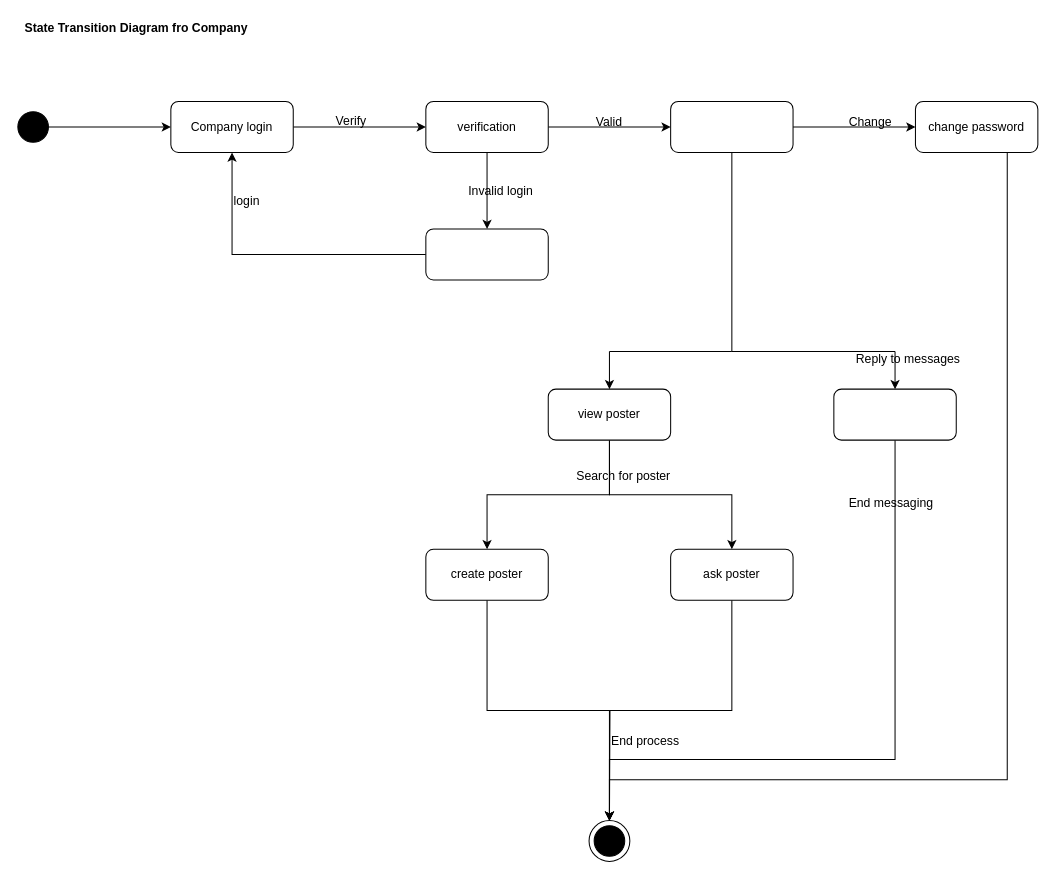
Some shapes in this 1056 by 879 pixel diagram are drawn without their labels. Each missing label, with the box of its shape:
access account: (670, 100, 793, 152)
Messaging system: (833, 388, 956, 440)
Re-login: (425, 228, 548, 280)
